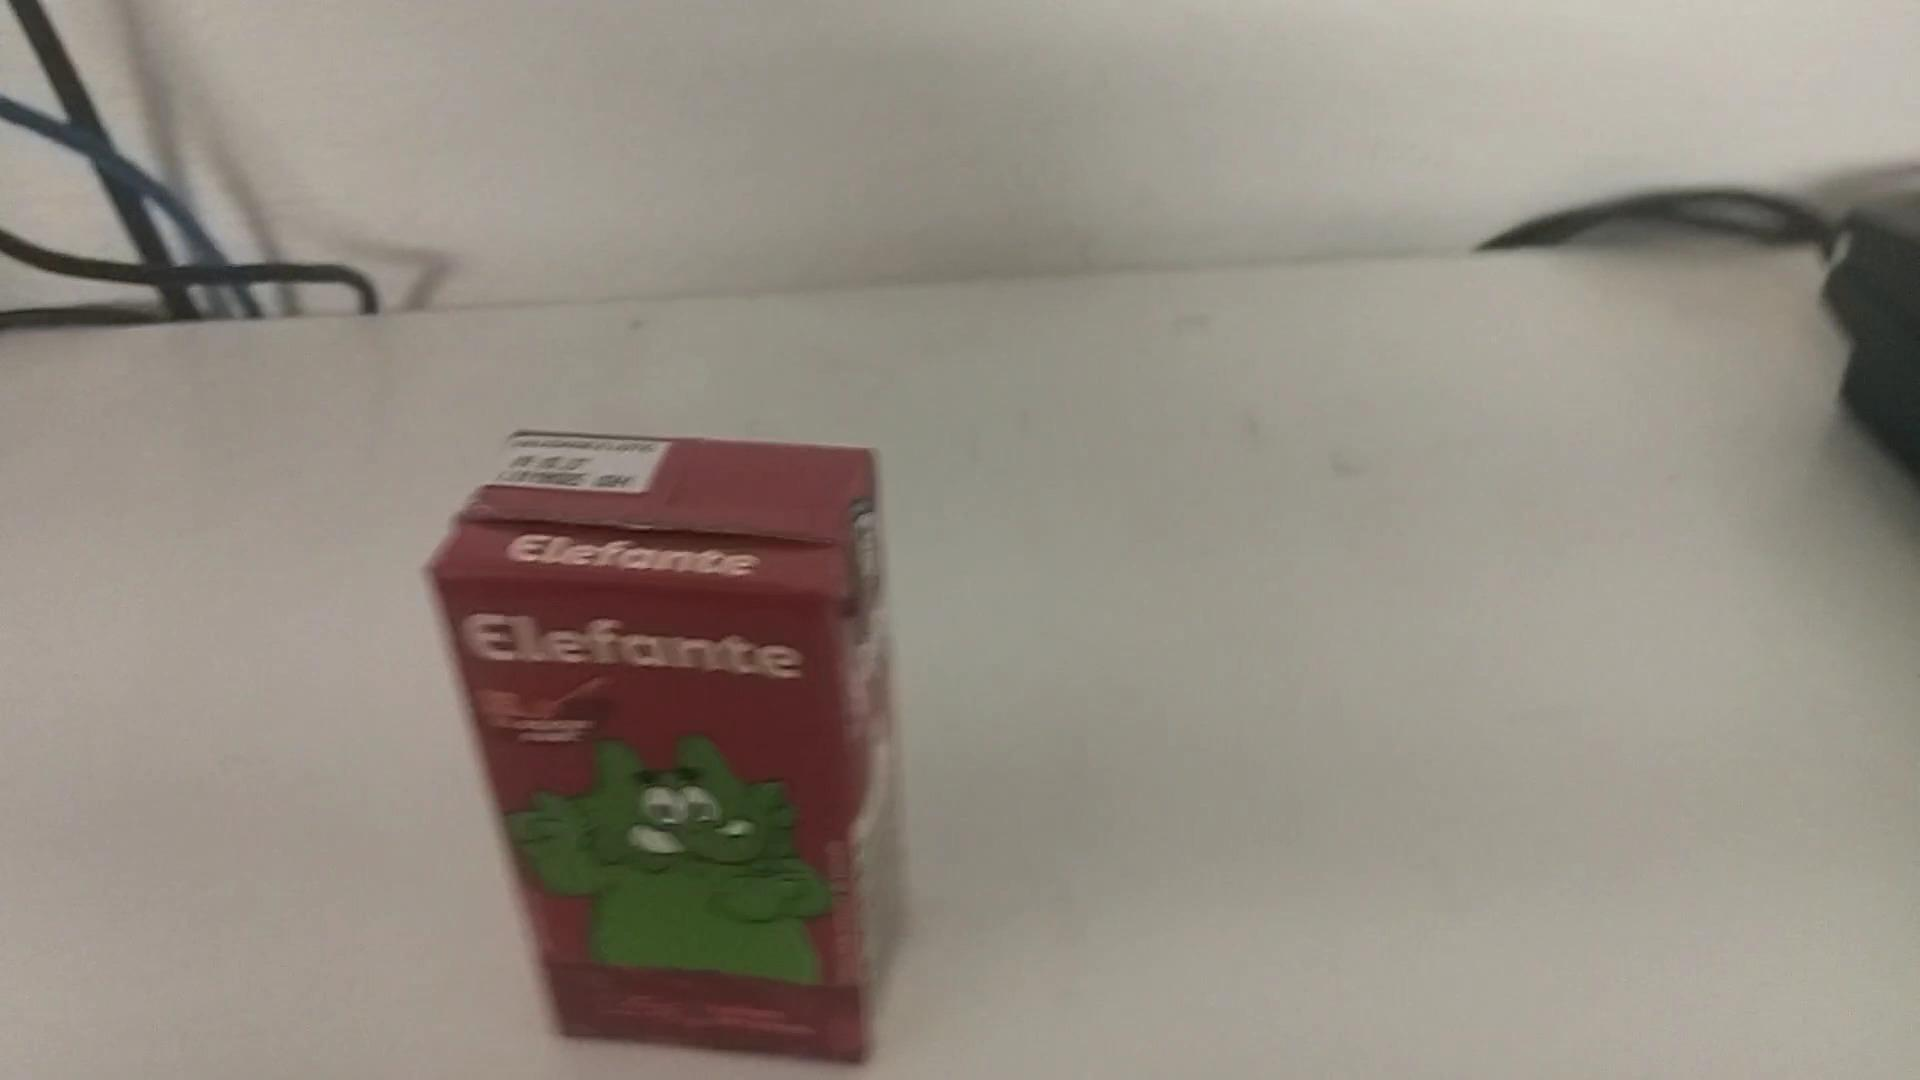tomate: (409, 418, 905, 1059)
